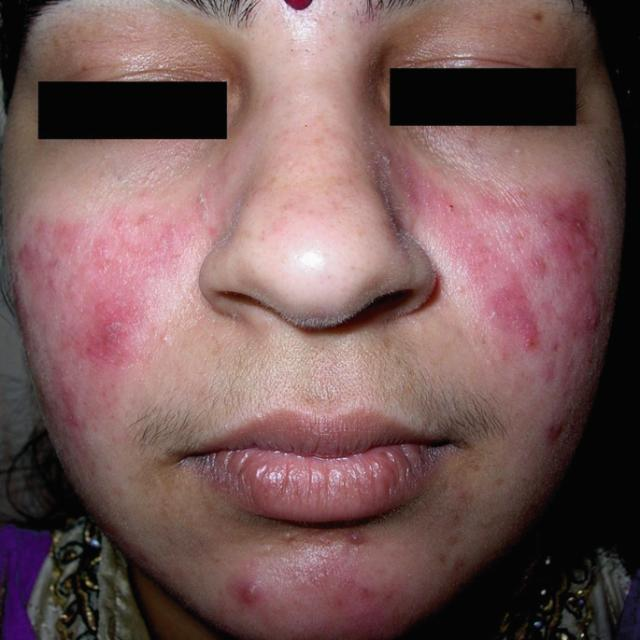Rosacea: (385, 155, 600, 441), (17, 208, 211, 451), (214, 572, 403, 639)
